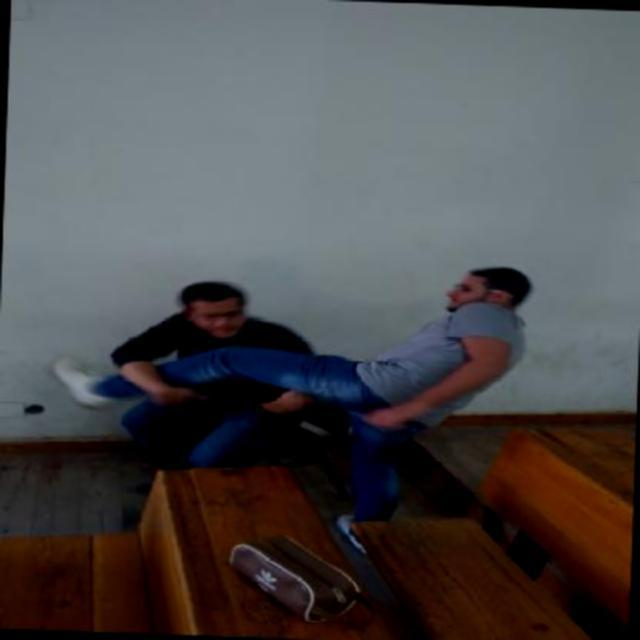fight: (61, 249, 527, 442)
